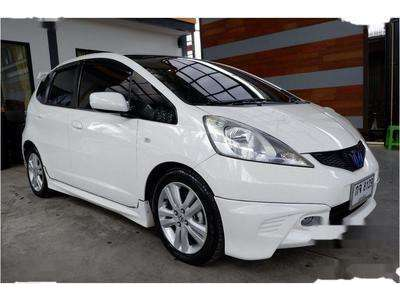sedan: (20, 50, 382, 266)
